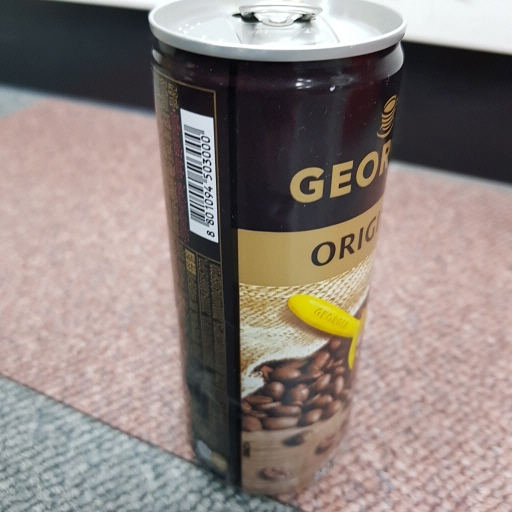Metal_0: (147, 1, 405, 493)
